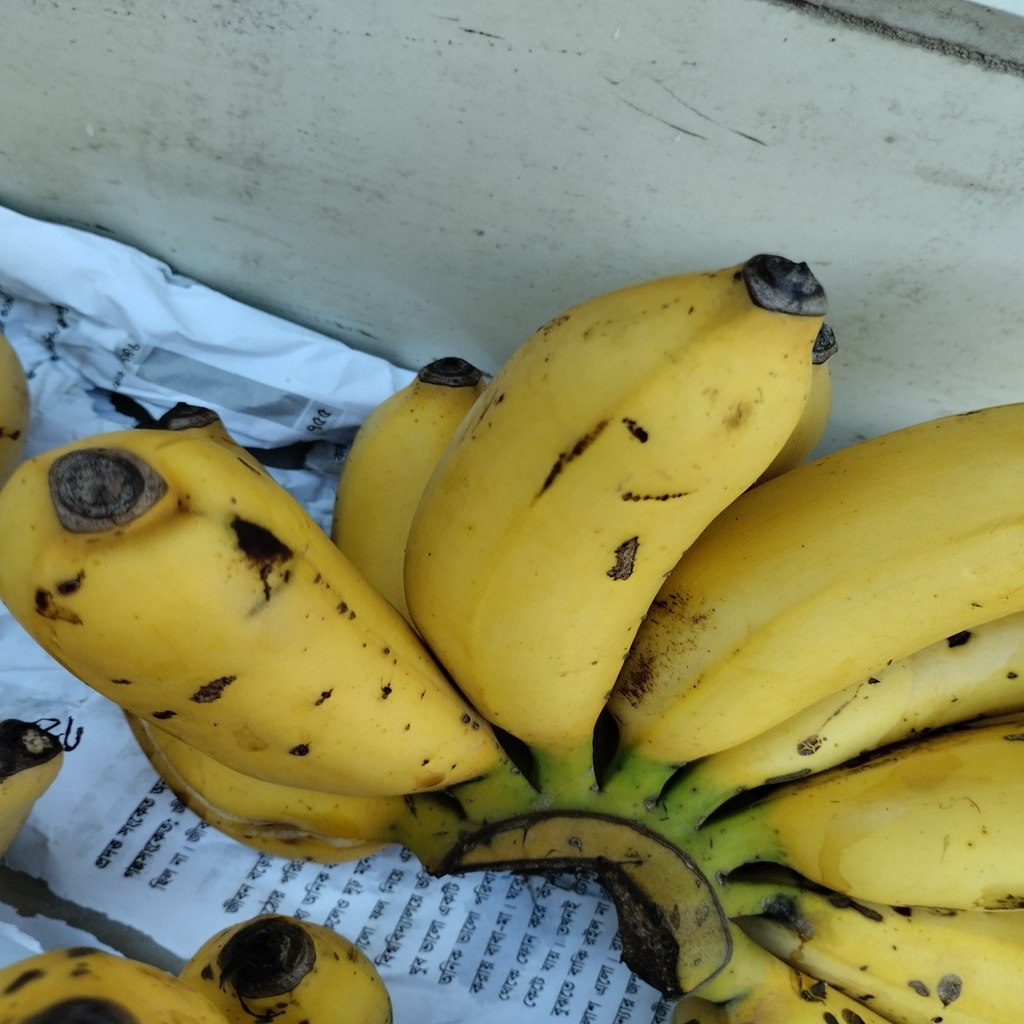unhealthy: (400, 265, 820, 756), (1, 428, 505, 796)
